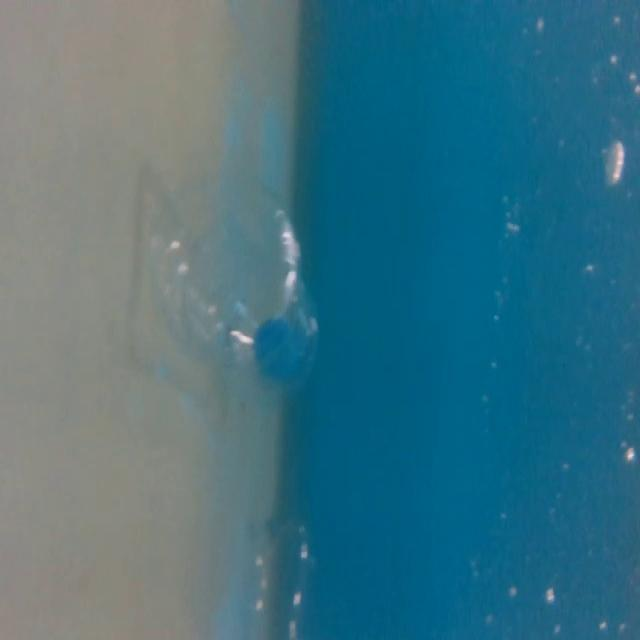plastic bottle: (143, 165, 340, 410), (237, 506, 313, 640)
